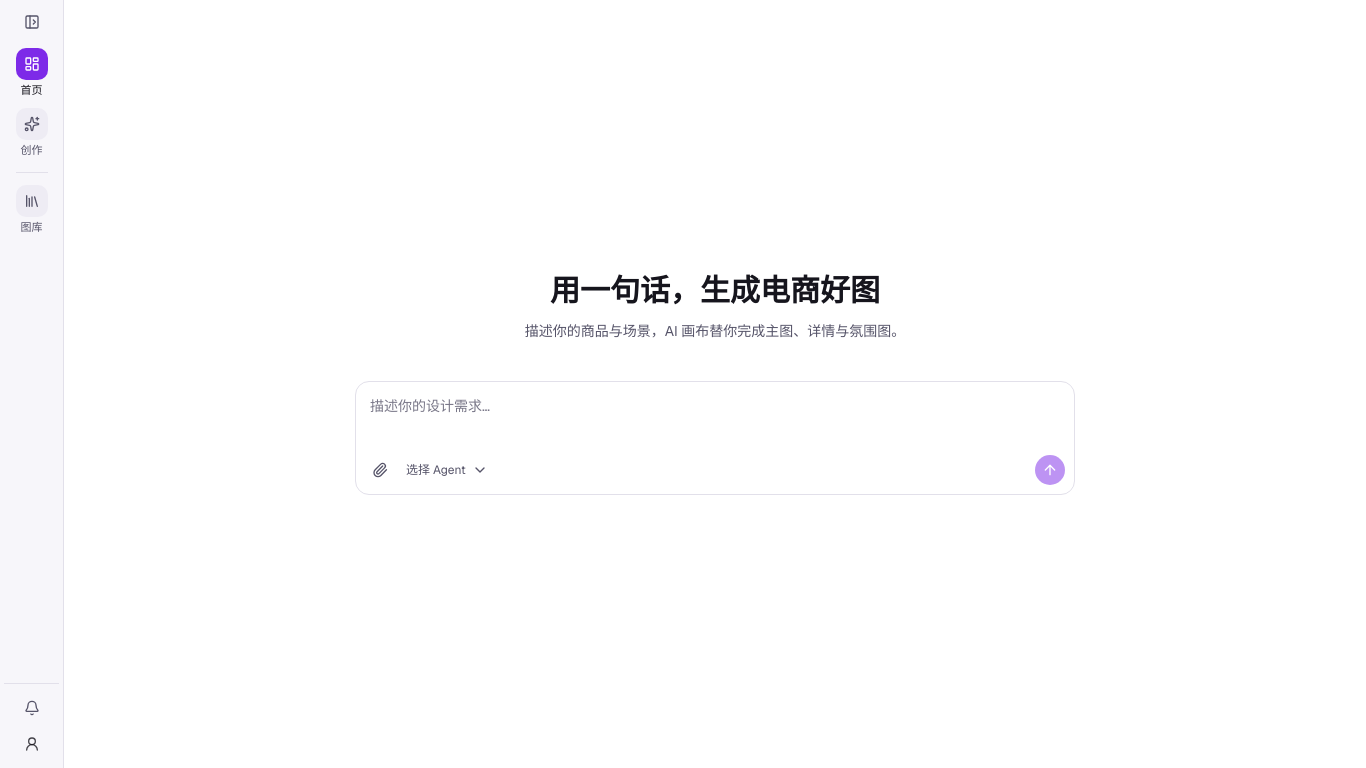
Scenario: 首页落地页 › 排版设计：面板内二级项开尺寸弹窗，面板保持展开
Expected: the button with test id "nav-home" is shown, [4, 44, 59, 102]
Click the button "创作".
click(32, 133)  # box [4, 104, 59, 162]
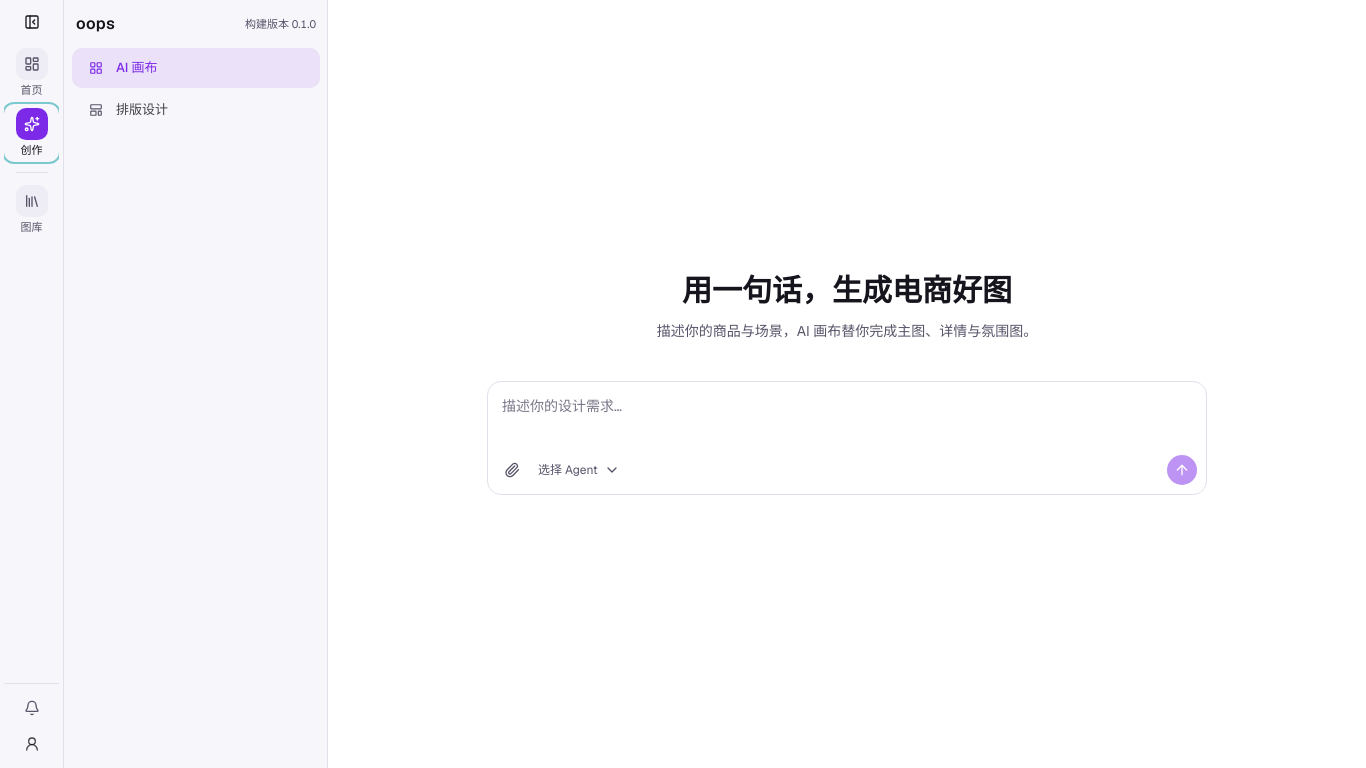
Result: the element with test id "nav-panel-create" is shown at [64, 0, 328, 138]
Result: the button with test id "nav-layout-design" is enabled
Click the button with test id "nav-layout-design".
click(196, 110)  # box [72, 90, 320, 130]
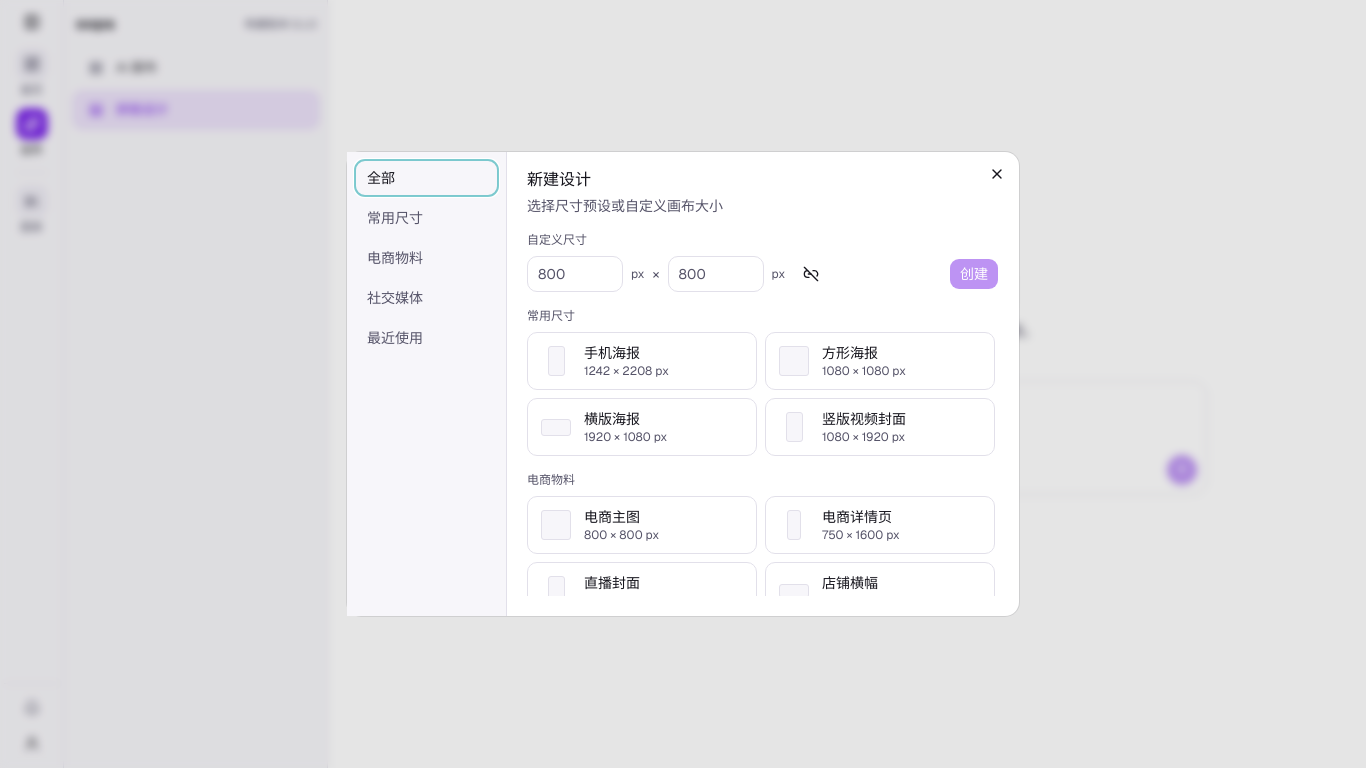
Result: the heading "新建设计" is shown at [527, 169, 591, 190]
Press Escape in the dialog, box [347, 152, 1019, 616]
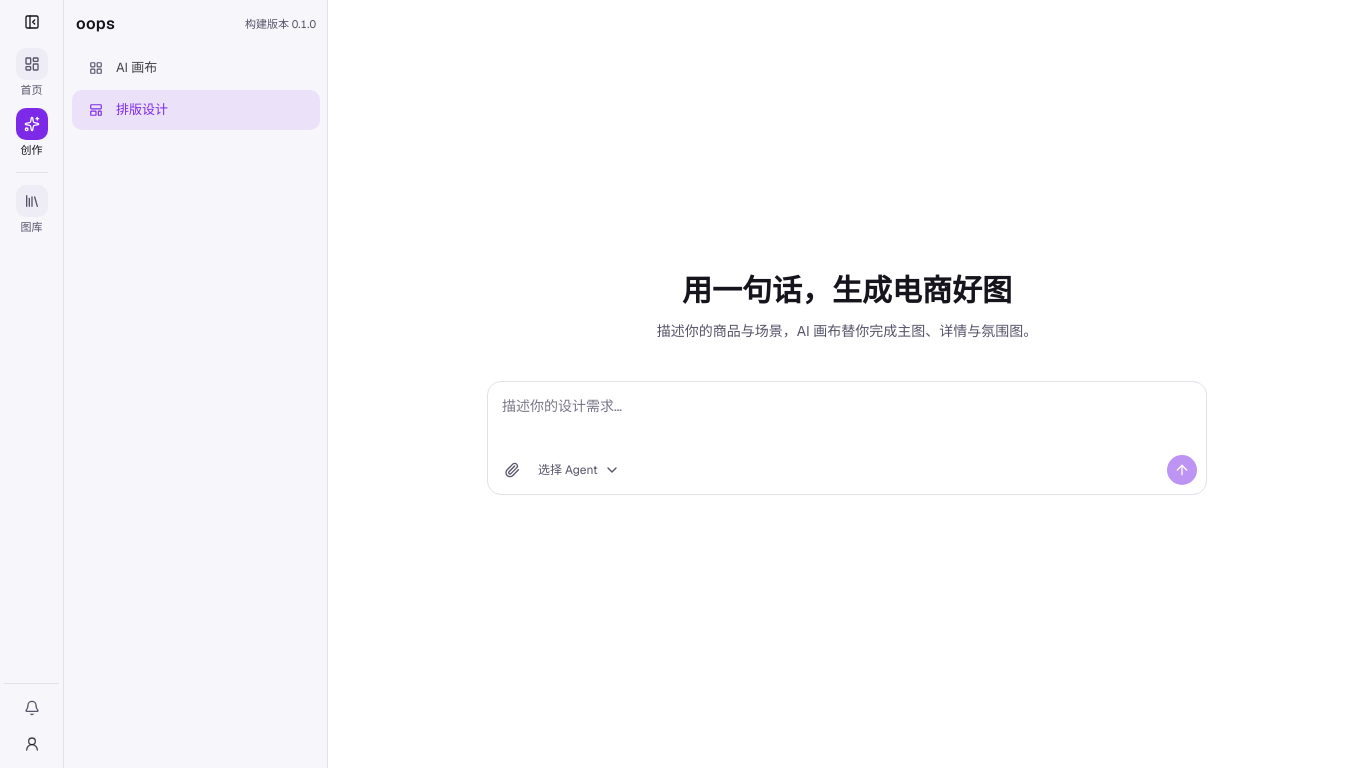
Result: the dialog is gone
